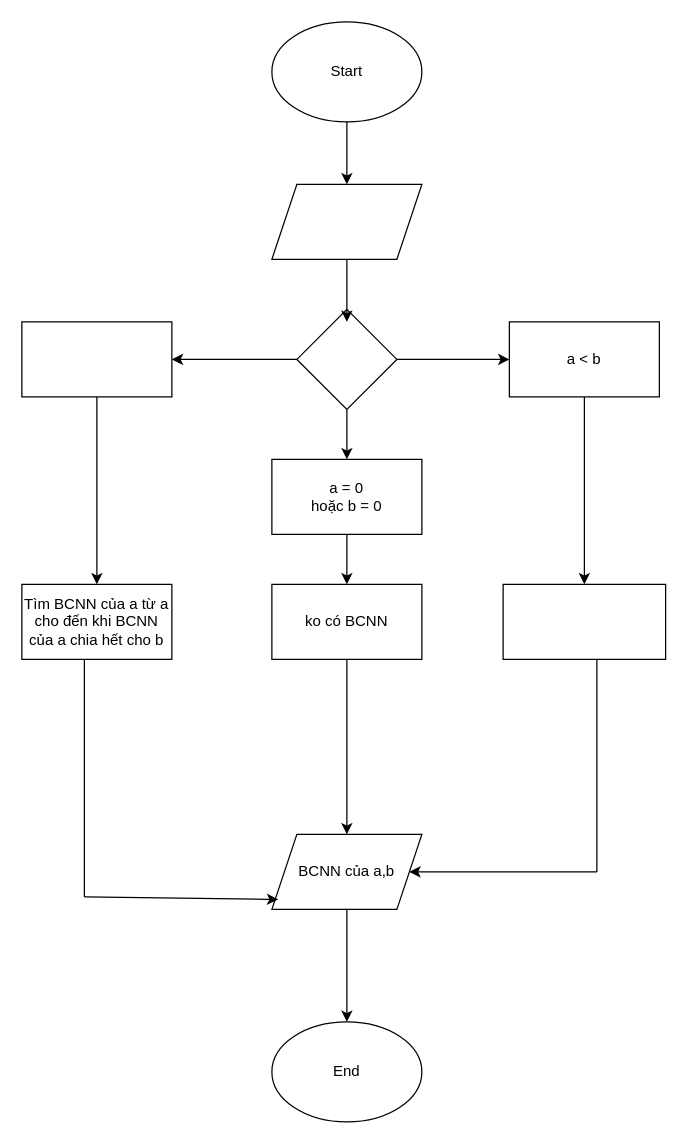
Image size: 688x1144. Some labels were removed from this diagram. The box of each missing label's shape, as (x1, y1, x2, y2) in pixels:
a > b: (21, 321, 172, 397)
a,b (a,b>0): (271, 183, 422, 259)
So sánh a,b: (296, 308, 397, 409)
Tìm BCNN của b từ b cho đến khi BCNN của b chia hết cho a: (502, 583, 666, 659)
